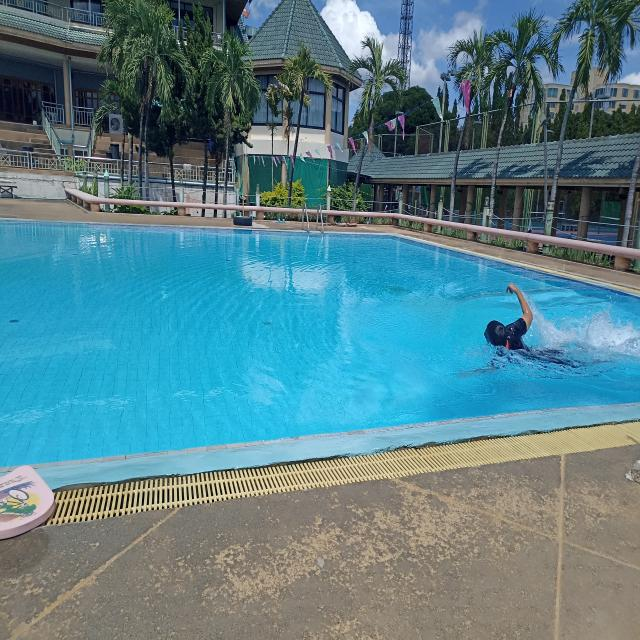Swimming: (468, 280, 620, 386)
